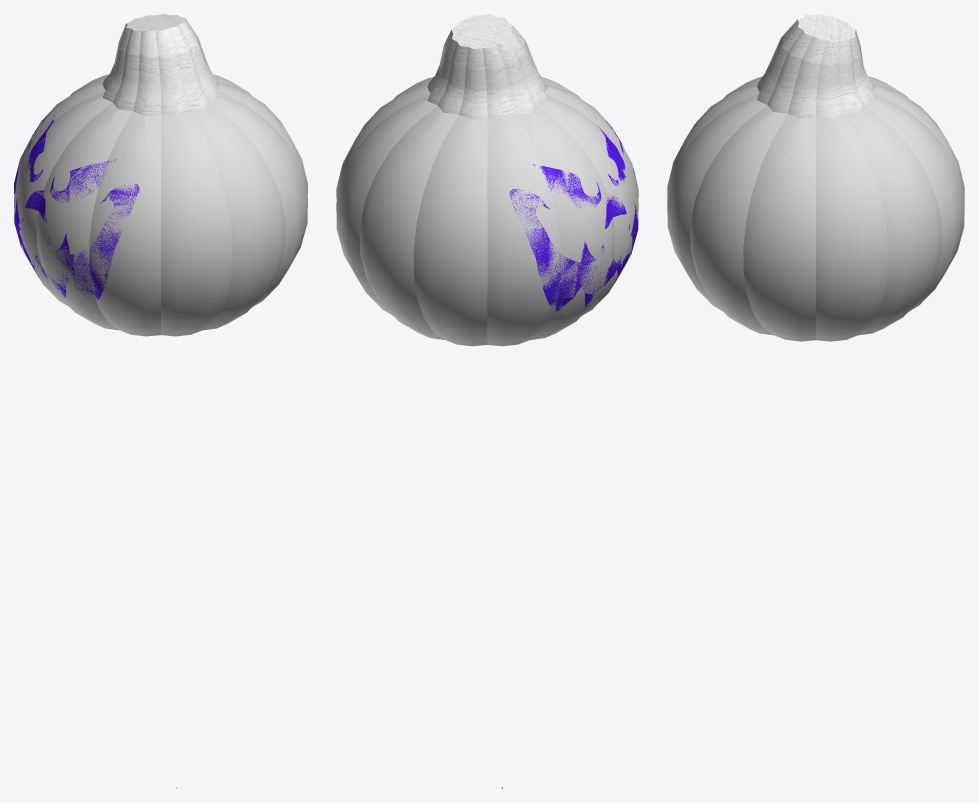
Rendered from addOn_PumpkinOrb.dae.
3 renders of one model, left to right at view 1: azimuth 30°, elevation 25°; view 2: azimuth 150°, elevation 25°; view 3: azimuth 270°, elevation 25°, orthographic. The views are drawn at different scales.
Parts seen in each view (by area): view 1: main2, group_1, group_0 (×2); view 2: main2, group_1, group_0 (×2); view 3: main2, group_1.
Boxes of the visible parts, box(x1,y1,x2,y2) form: main2: box(14, 74, 307, 336); group_1: box(102, 14, 219, 115); group_0 (×2): box(14, 117, 139, 299); main2: box(336, 77, 638, 346); group_1: box(427, 14, 547, 119); group_0 (×2): box(509, 121, 638, 311); main2: box(667, 76, 964, 341); group_1: box(757, 14, 874, 118).
Bounding box in the file's own units: 82.43 × 82.43 × 234.
Materials: 4 (1 with a texture image).
